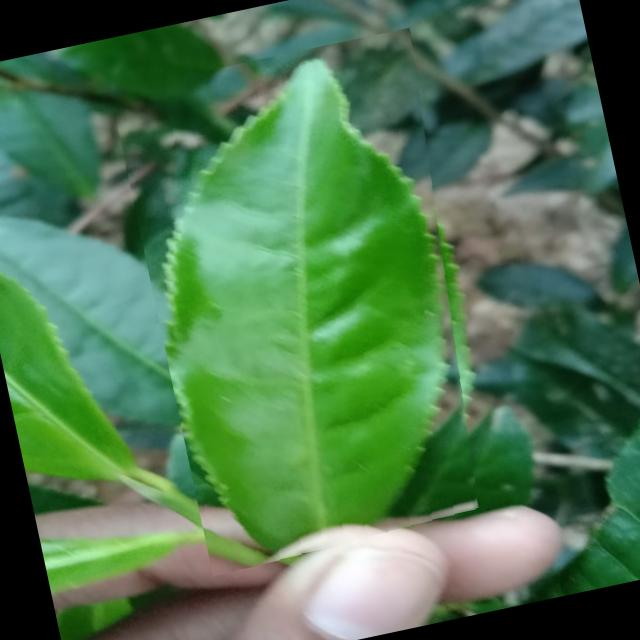Category C 4-7 days: (110, 27, 514, 578)
